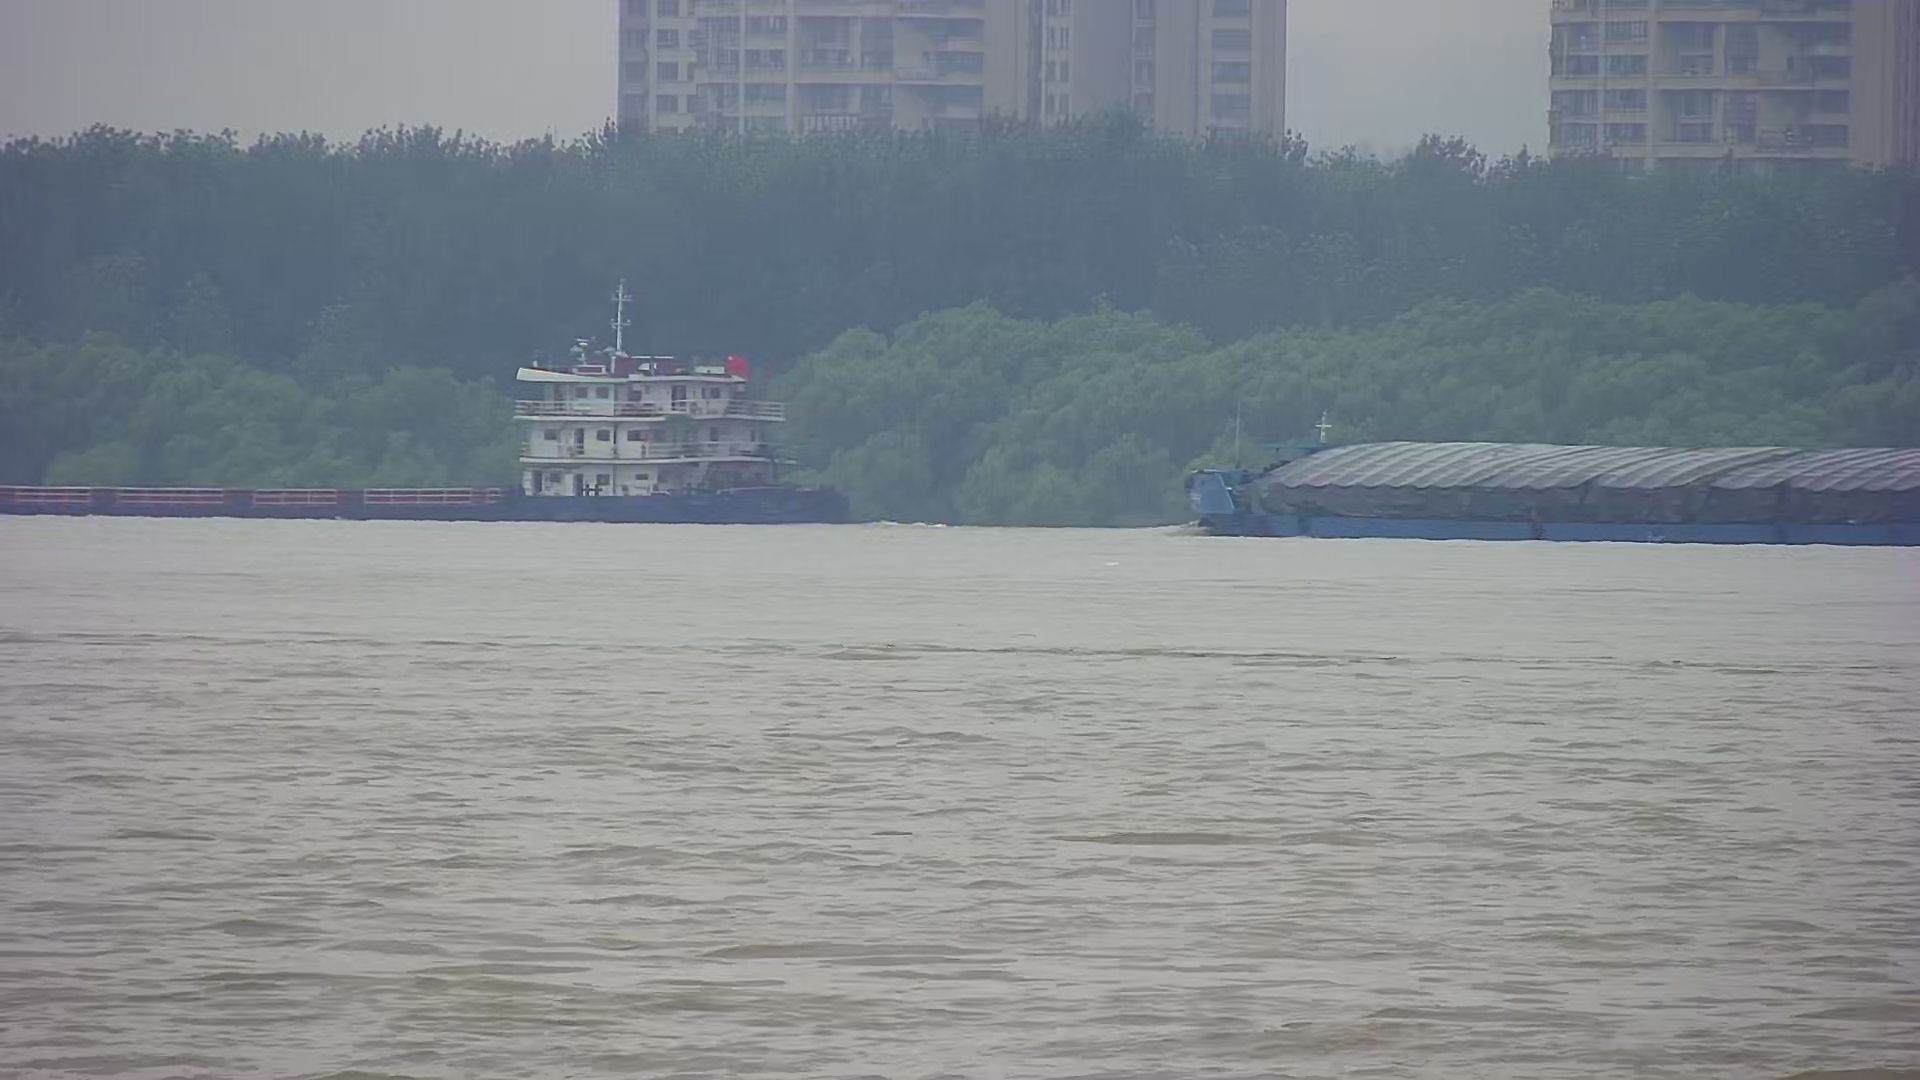ship: (4, 307, 845, 524), (1182, 433, 1920, 546)
